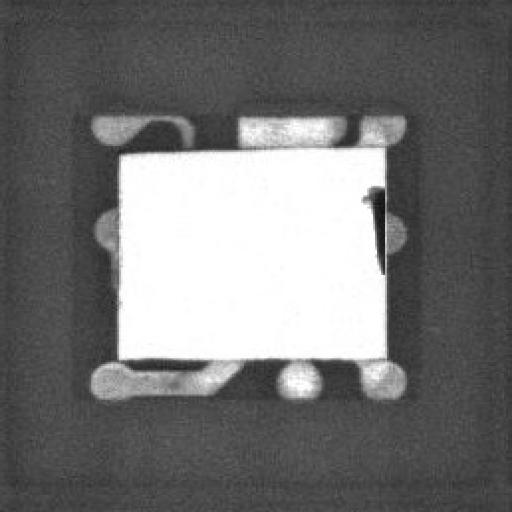DIE_BROKEN: (359, 180, 387, 277)
